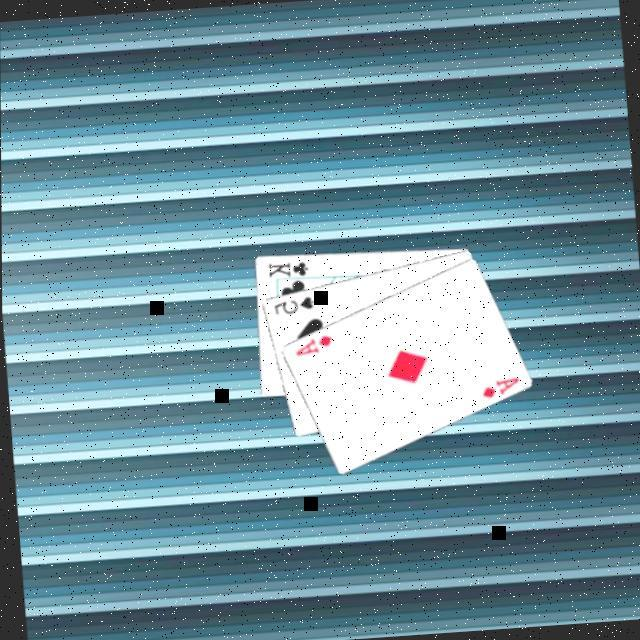5S: (268, 291, 314, 317)
AD: (287, 329, 333, 358), (474, 372, 520, 401)
KC: (262, 256, 312, 284)
